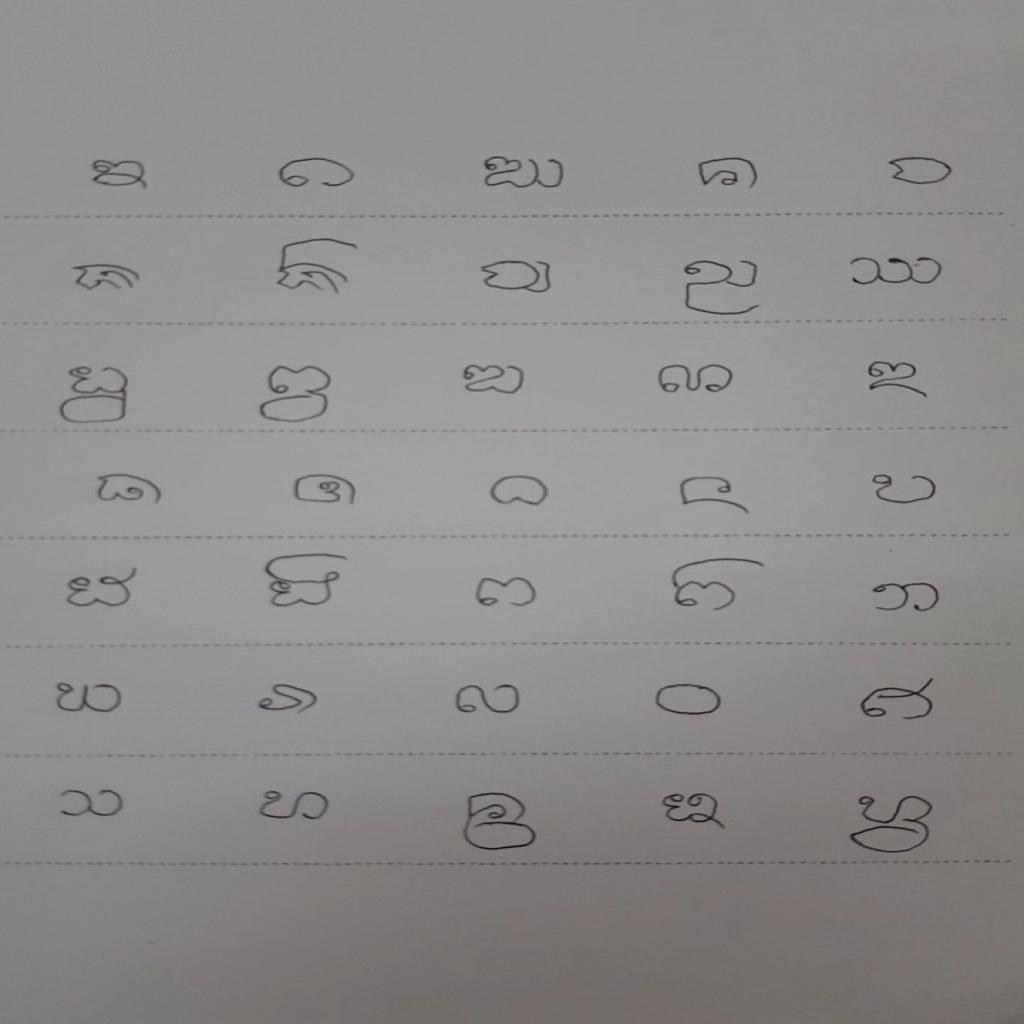LN002: (85, 156, 156, 194)
LN003: (273, 156, 360, 192)
LN004: (473, 152, 572, 196)
LN005: (691, 155, 764, 192)
LN006: (883, 154, 959, 189)
LN008: (67, 261, 147, 295)
LN009: (273, 235, 362, 299)
LN010: (477, 257, 557, 297)
LN011: (678, 256, 765, 319)
LN012: (843, 254, 949, 290)
LN014: (56, 364, 136, 428)
LN015: (254, 363, 337, 427)
LN016: (458, 362, 530, 399)
LN017: (653, 362, 739, 397)
LN018: (862, 359, 931, 402)
LN020: (91, 471, 168, 507)
LN021: (288, 472, 363, 509)
LN022: (487, 473, 553, 509)
LN023: (674, 473, 754, 518)
LN024: (866, 472, 942, 509)
LN026: (60, 565, 142, 613)
LN027: (259, 551, 351, 612)
LN028: (468, 576, 543, 613)
LN029: (667, 554, 768, 615)
LN030: (866, 579, 946, 617)
LN032: (48, 680, 128, 717)
LN033: (251, 682, 326, 717)
LN034: (446, 682, 526, 718)
LN035: (649, 682, 728, 720)
LN036: (852, 675, 940, 725)
LN038: (52, 786, 130, 821)
LN039: (250, 788, 338, 825)
LN040: (456, 790, 543, 855)
LN041: (657, 791, 732, 833)
LN042: (844, 792, 941, 858)
